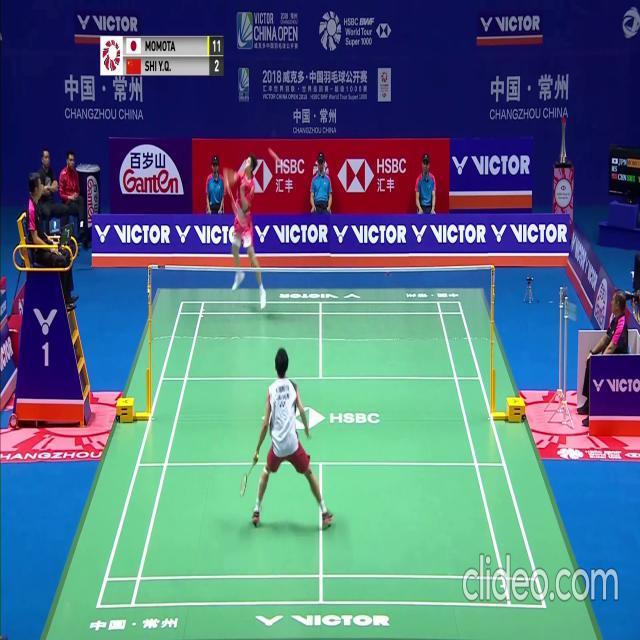Shuttlecock: (282, 162, 286, 169)
